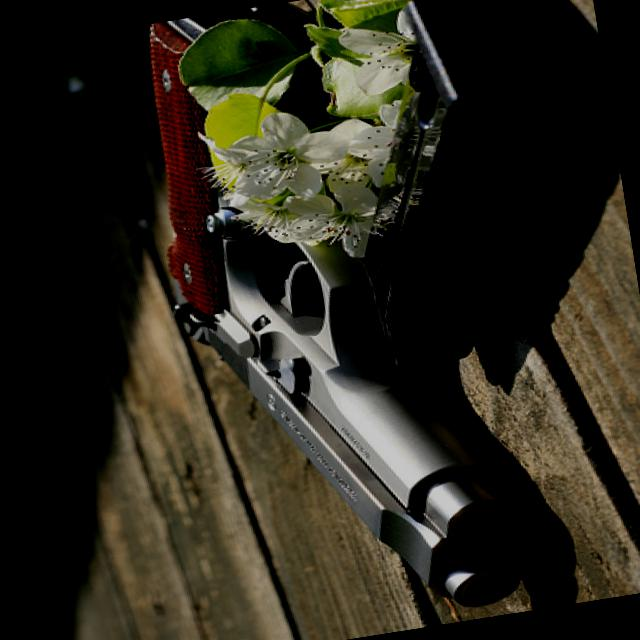handgun: (124, 0, 533, 639)
